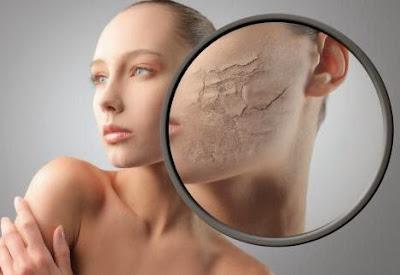Dry-Skin: (187, 33, 292, 168)
